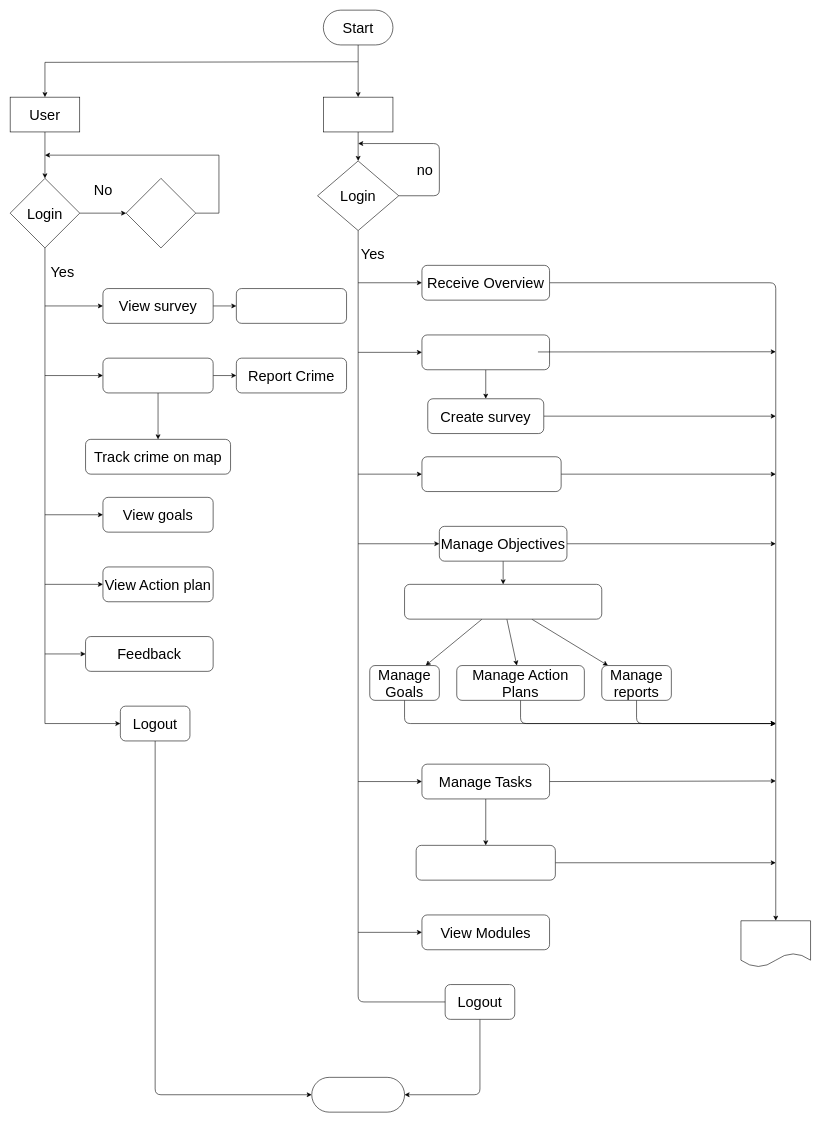
Some shapes in this 821 by 1122 pixel diagram are drawn without their labels. Each missing label, with the centre of its shape:
"Admin" belongs at (x=358, y=114).
"Assign officer to task" belongs at (x=485, y=862).
"Logs" belongs at (x=775, y=943).
"Manage Crime reports" belongs at (x=491, y=474).
"Manage surveys" belongs at (x=485, y=352).
"Register" belongs at (x=161, y=213).
"Respond survey" belongs at (x=291, y=305).
"Stop" belongs at (x=358, y=1094).
"View Crime Reports" belongs at (x=157, y=375).
"View District Overview" belongs at (x=503, y=601).
